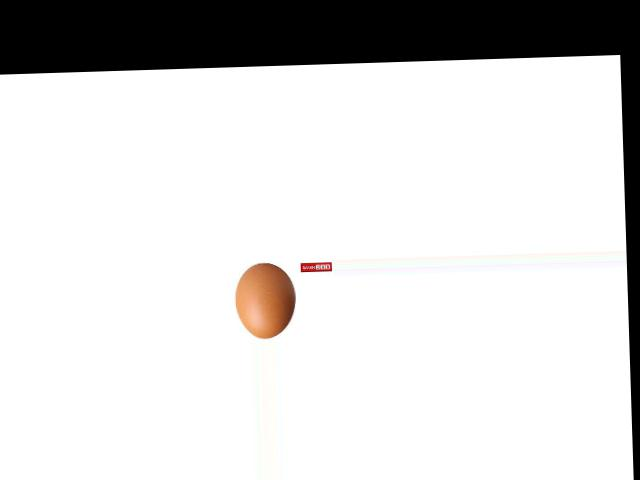egg: (234, 262, 295, 338)
